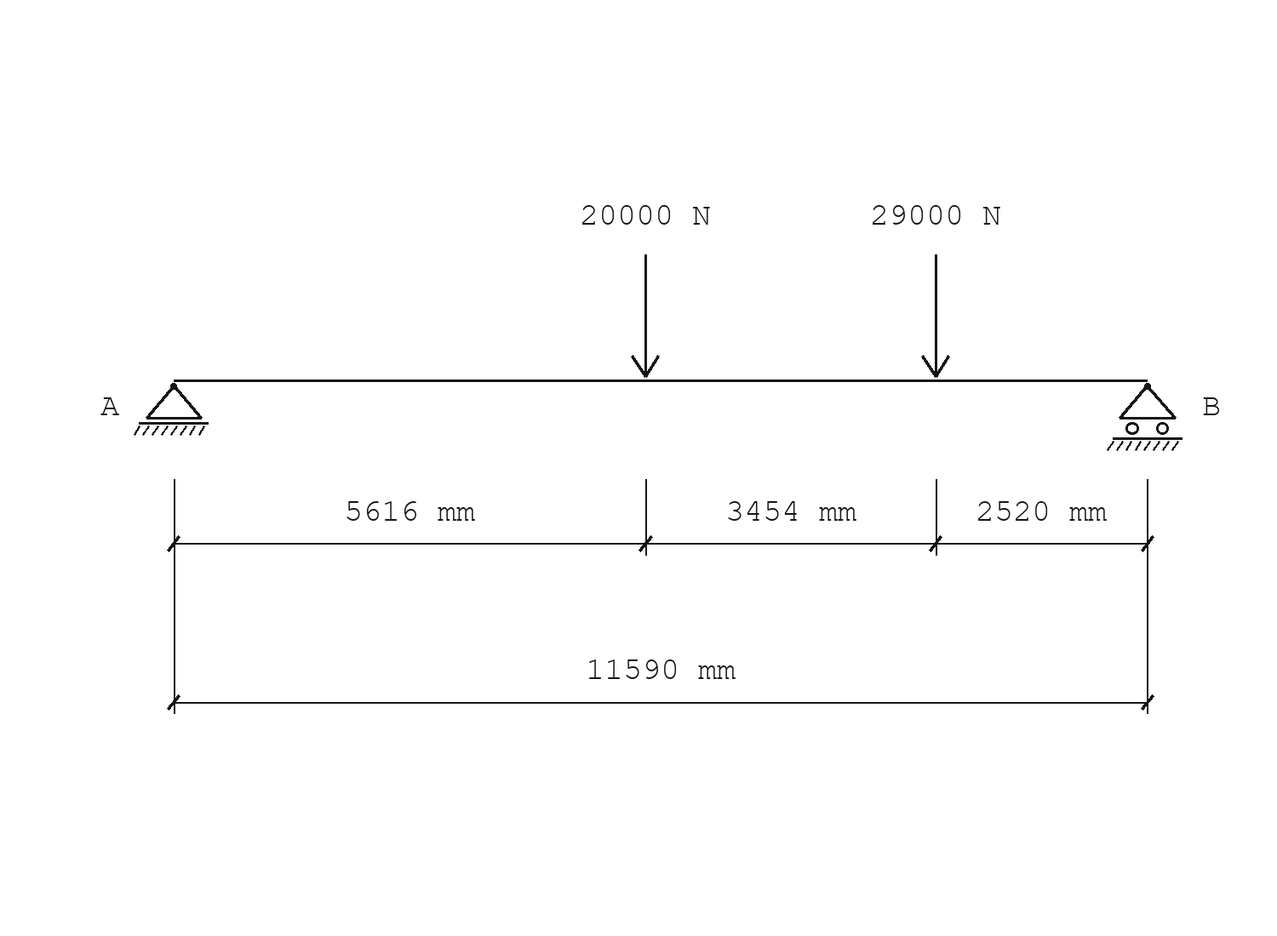pin_support: (134, 383, 209, 436)
point_load: (631, 254, 660, 378), (921, 254, 950, 378)
roller_support: (1107, 383, 1183, 451)
